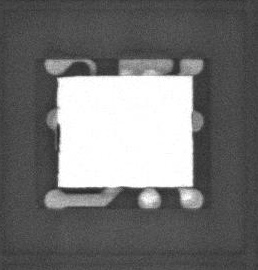DIE_BROKEN: (54, 123, 61, 153)
